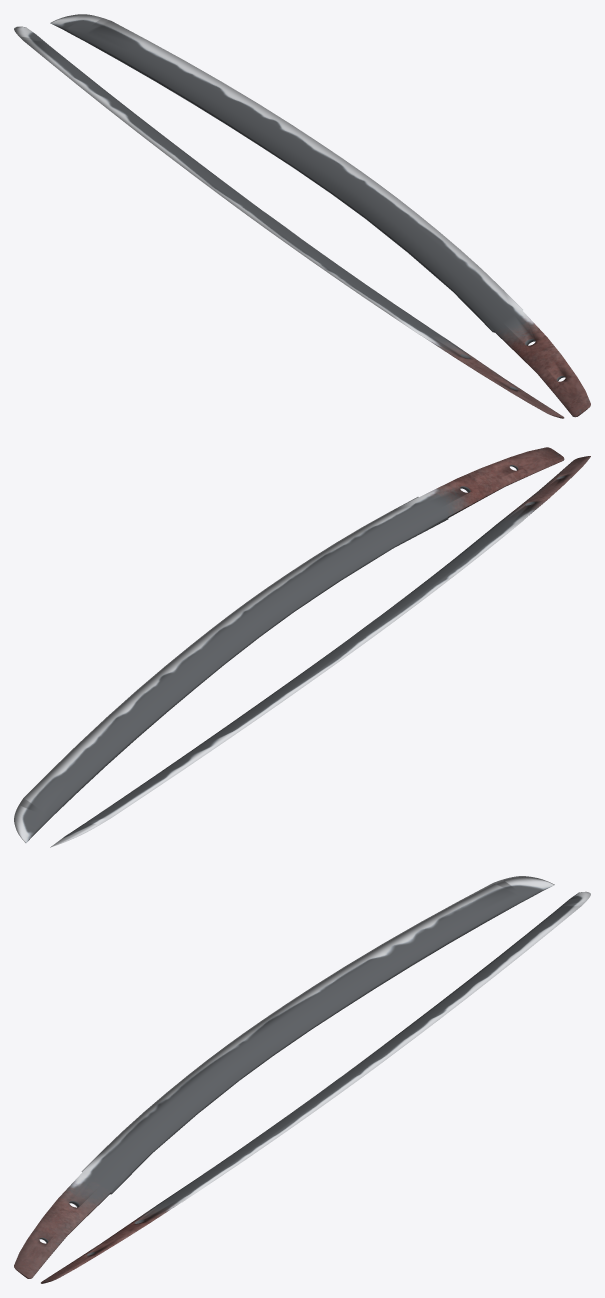
File: webvrkatana3.gltf
3 views of the same model, one above another, from view 1: azimuth 30°, elevation 25°; view 2: azimuth 150°, elevation 25°; view 3: azimuth 330°, elevation 25° (orthographic).
Parts seen in each view (by area): view 1: tousin.002; view 2: tousin.002; view 3: tousin.002.
Boxes of the visible parts, box(x1,y1,x2,y2) form: tousin.002: box(14, 14, 590, 418); tousin.002: box(14, 447, 590, 847); tousin.002: box(14, 876, 590, 1283).
Bounding box in the file's own units: 22.9 × 5.32 × 159.
1 material, 1 textured.
